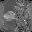people: (4, 11, 16, 22)
